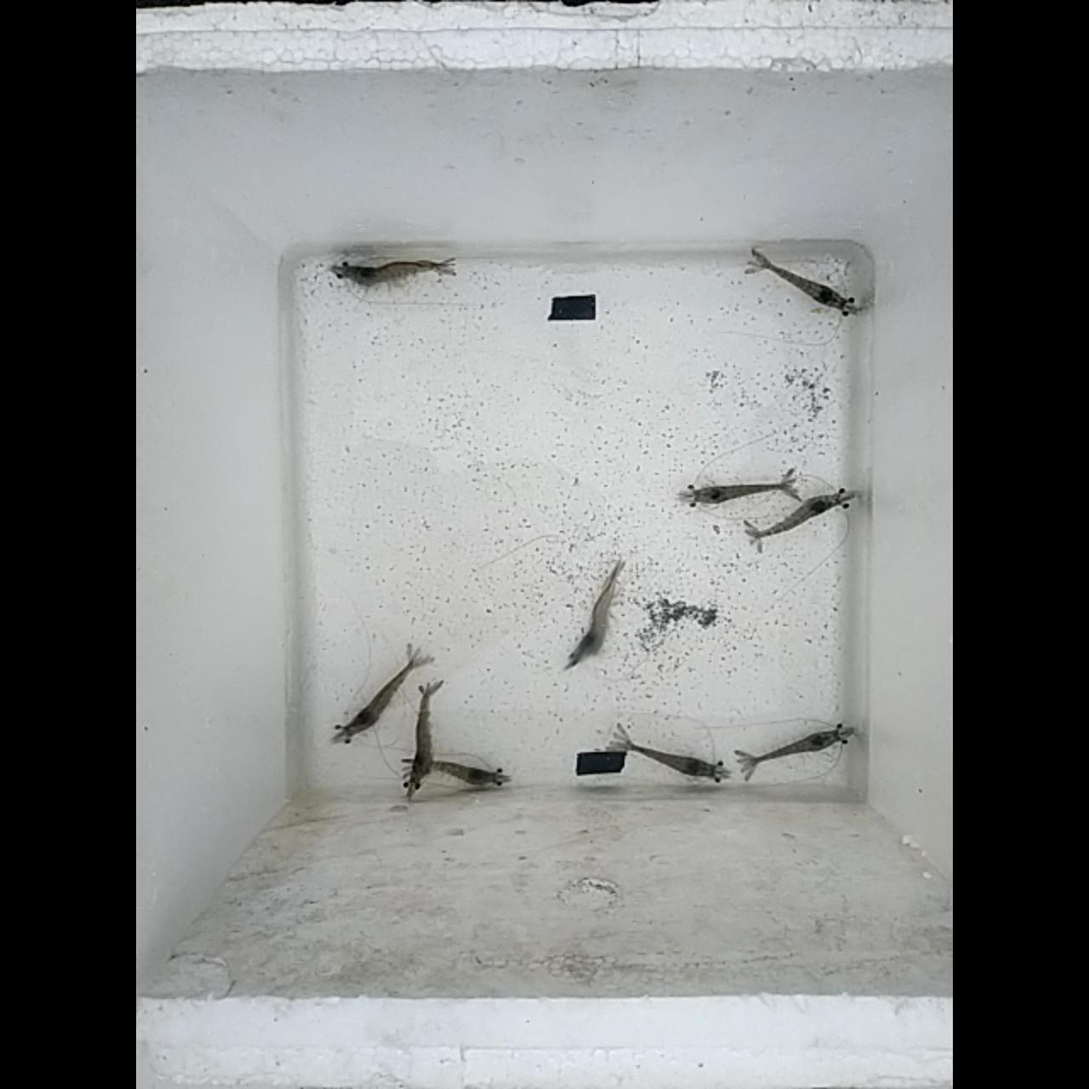box: (551, 294, 596, 318), (579, 750, 624, 774)
side_shrimp: (568, 565, 616, 665), (752, 497, 835, 536), (406, 760, 493, 786), (345, 260, 442, 282)
top_shrimp: (345, 660, 413, 735), (755, 257, 842, 305), (626, 742, 713, 774), (747, 735, 835, 761), (699, 485, 788, 502), (413, 687, 430, 776)
